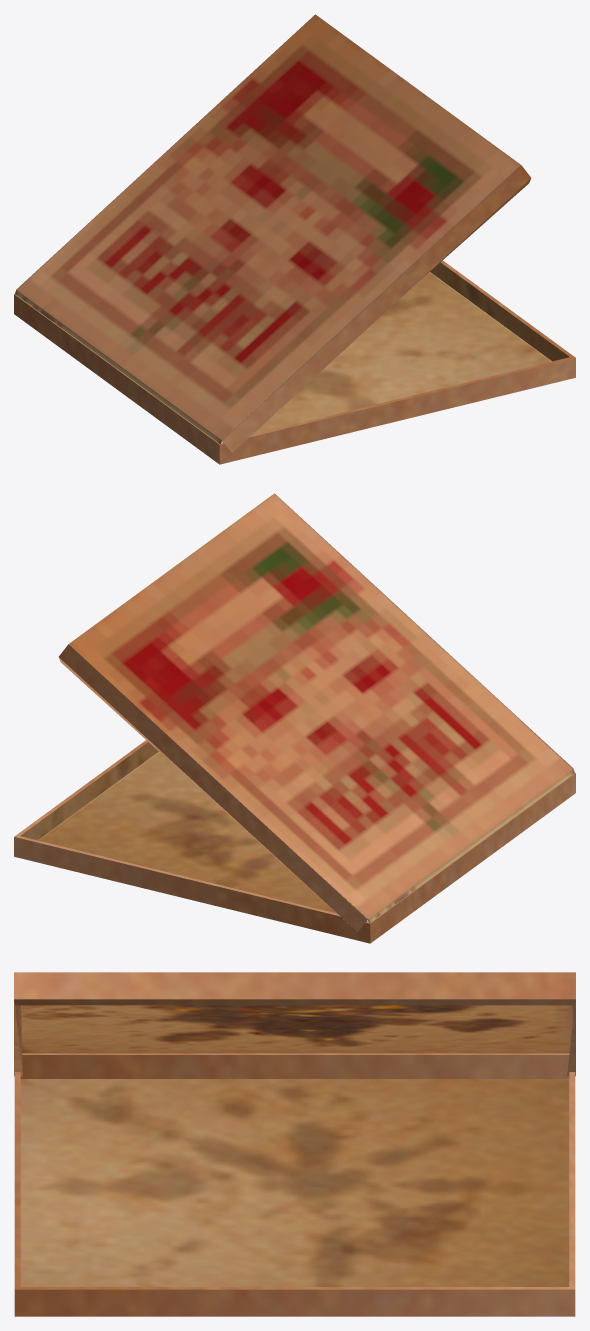
The model's file is pizza_box_semi_close_empty.glb.
The picture shows the model from 3 angles, top to bottom: view 1: azimuth 30°, elevation 25°; view 2: azimuth 150°, elevation 25°; view 3: azimuth 270°, elevation 25°; orthographic projection. The views are drawn at different scales.
Visible parts, largest first — view 1: pizza box semi close empty; view 2: pizza box semi close empty; view 3: pizza box semi close empty.
Boxes of the visible parts, bbox=[...] form: pizza box semi close empty: bbox=[14, 14, 575, 464]; pizza box semi close empty: bbox=[14, 493, 575, 943]; pizza box semi close empty: bbox=[14, 972, 575, 1316].
Bounding box in the file's own units: 0.5276 × 0.3198 × 0.5286.
Materials: 1 (1 with a texture image).
